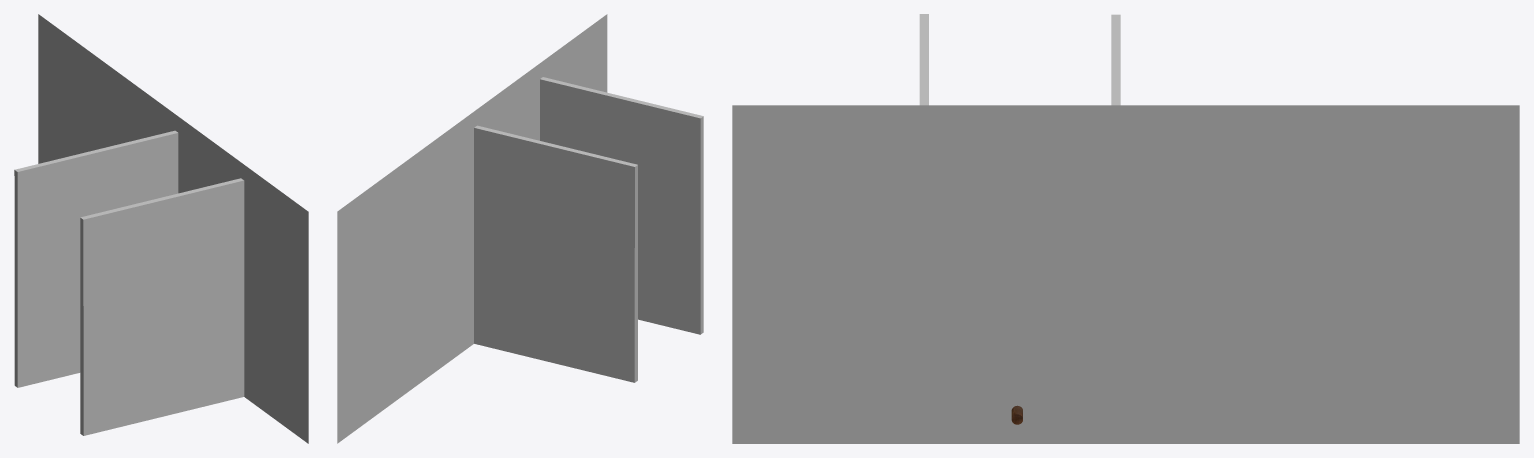
Rendered from shower 1.fbx.
3 renders of one model, left to right at view 1: azimuth 30°, elevation 25°; view 2: azimuth 150°, elevation 25°; view 3: azimuth 270°, elevation 25°, orthographic. The views are drawn at different scales.
Parts seen in each view (by area): view 1: Plane.020, Plane.017, Plane.019; view 2: Plane.017, Plane.019, Plane.020; view 3: Plane.017, Plane.020, Plane.019.
Boxes of the visible parts, box(x1,y1,x2,y2) form: Plane.020: box(80, 178, 244, 435); Plane.017: box(38, 14, 308, 443); Plane.019: box(14, 130, 178, 387); Plane.017: box(337, 14, 607, 443); Plane.019: box(474, 125, 637, 382); Plane.020: box(540, 77, 703, 334); Plane.017: box(732, 105, 1519, 443); Plane.020: box(919, 14, 928, 248); Plane.019: box(1111, 14, 1120, 105).
Size of the model in its own units: 351 by 453 by 949.
